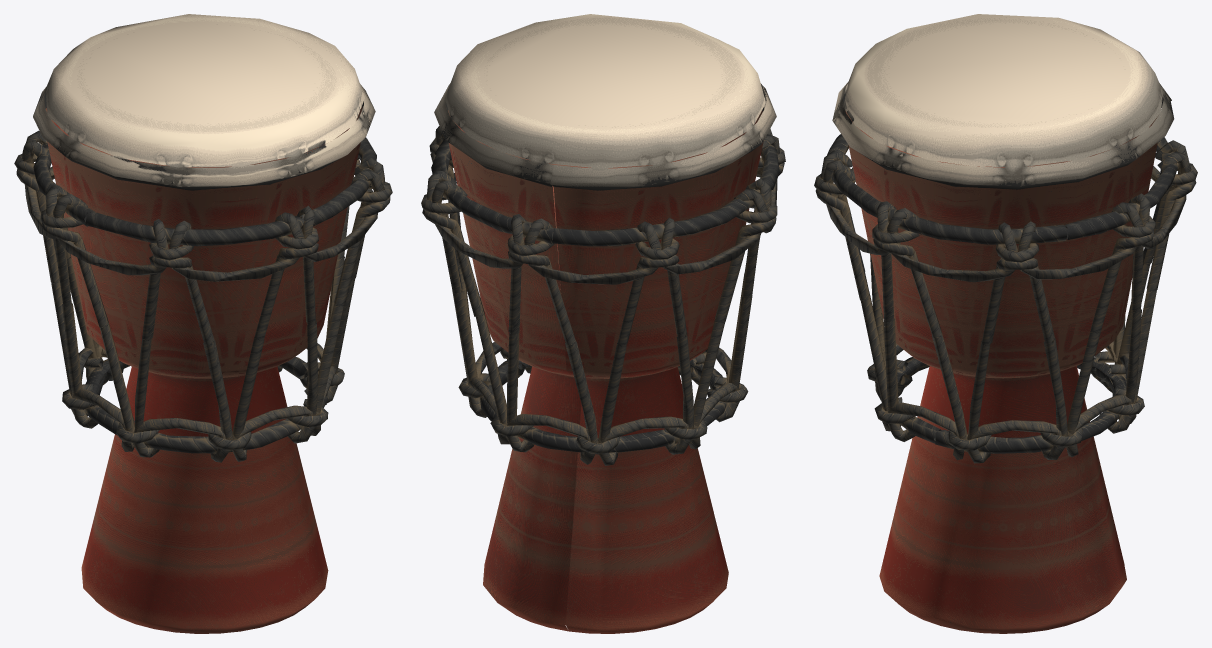
File: mdl_hub_africandrum.gltf
The picture shows the model from 3 angles, left to right: view 1: azimuth 30°, elevation 25°; view 2: azimuth 150°, elevation 25°; view 3: azimuth 270°, elevation 25°; orthographic projection.
Parts seen in each view (by area): view 1: drum-ready, drum-ready_nitki; view 2: drum-ready, drum-ready_nitki; view 3: drum-ready, drum-ready_nitki.
Part boxes in pixels (left/top/right/bottom): drum-ready: left=33, top=14, right=375, bottom=633; drum-ready_nitki: left=14, top=130, right=392, bottom=462; drum-ready: left=434, top=14, right=776, bottom=633; drum-ready_nitki: left=421, top=126, right=785, bottom=465; drum-ready: left=832, top=14, right=1174, bottom=633; drum-ready_nitki: left=814, top=134, right=1197, bottom=463.
Size of the model in its own units: 14.48 by 21.33 by 14.48.
2 materials, 2 textured.
